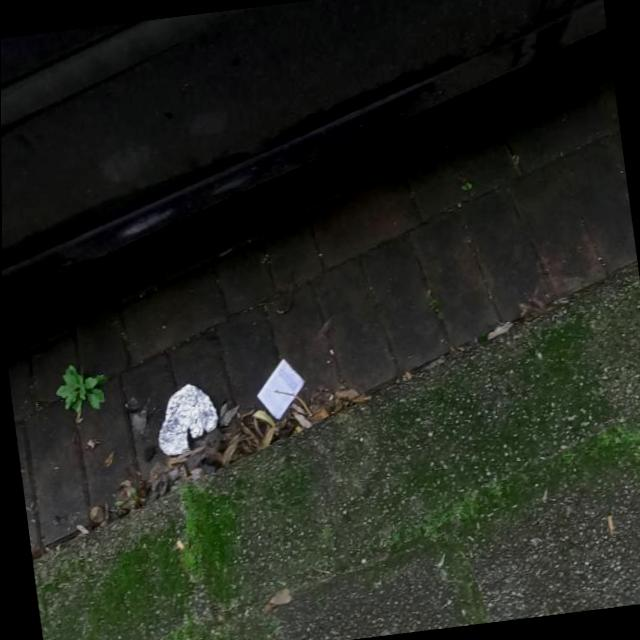Paper: (250, 353, 309, 423)
